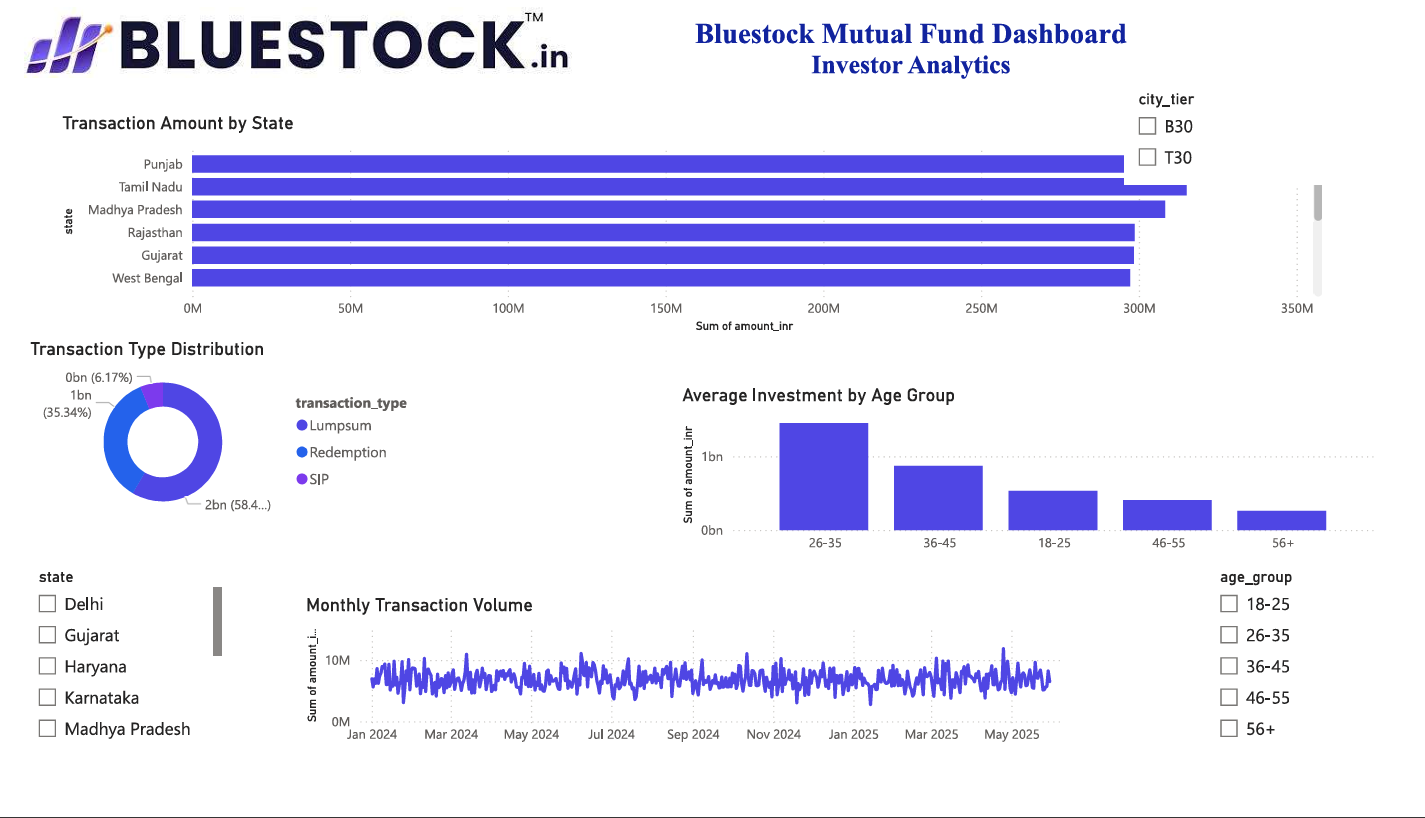

This screenshot's page, from the dashboard's own definition file:
{"tool":"powerbi","page":{"name":"Investor Analytics","canvas":[1280,720],"ordinal":2},"visuals":[{"type":"clusteredBarChart","title":"Transaction Amount by State","fields":{"Category":["08_investor_transactions.state"],"Y":["Sum(08_investor_transactions.amount_inr)"]},"box":[30.2,122.8,1183,209.8],"z":0},{"type":"donutChart","title":"Transaction Type Distribution","fields":{"Category":["08_investor_transactions.transaction_type"],"Y":["Sum(08_investor_transactions.amount_inr)"]},"box":[0,332.6,376.1,175.7],"z":1000},{"type":"clusteredColumnChart","title":"Average Investment by Age Group","fields":{"Category":["08_investor_transactions.age_group"],"Y":["Sum(08_investor_transactions.amount_inr)"]},"box":[606.6,376.1,655.8,166.3],"z":2000},{"type":"lineChart","title":"Monthly Transaction Volume","fields":{"Y":["Sum(08_investor_transactions.amount_inr)"],"Category":["08_investor_transactions.transaction_date"]},"box":[257,570.7,727.6,149.3],"z":3000},{"type":"slicer","fields":{"Values":["08_investor_transactions.state"]},"box":[0,542.4,189,177.6],"z":4000},{"type":"slicer","fields":{"Values":["08_investor_transactions.age_group"]},"box":[1099.9,542.4,179.5,177.6],"z":5000},{"type":"textbox","box":[510.2,30.2,629.3,92.6],"z":6000},{"type":"image","box":[0,0,509.9,116.8],"z":7000},{"type":"slicer","fields":{"Values":["08_investor_transactions.city_tier"]},"box":[1024.3,98.3,230.6,92.6],"z":8000}]}

Visuals, with their boxes in screenshot pixels (x1, y1, x2, y2), scaled from the page's 1280x720 canvas onto the 1425x818 screenshot:
"Transaction Amount by State" clusteredBarChart: <region>34, 140, 1351, 378</region>
"Transaction Type Distribution" donutChart: <region>0, 378, 419, 577</region>
"Average Investment by Age Group" clusteredColumnChart: <region>675, 427, 1405, 616</region>
"Monthly Transaction Volume" lineChart: <region>286, 648, 1096, 817</region>
slicer - 08_investor_transactions.state: <region>0, 616, 210, 817</region>
slicer - 08_investor_transactions.age_group: <region>1224, 616, 1424, 817</region>
textbox: <region>568, 34, 1269, 140</region>
image: <region>0, 0, 568, 133</region>
slicer - 08_investor_transactions.city_tier: <region>1140, 112, 1397, 217</region>
